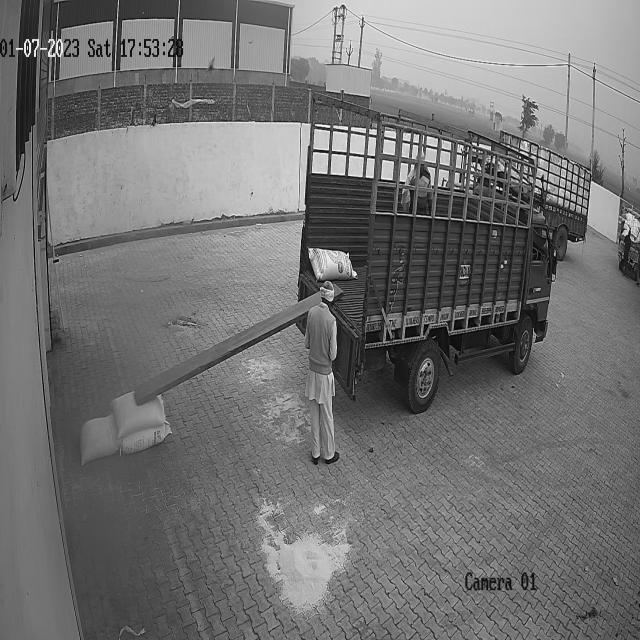sack: (111, 392, 165, 436), (79, 413, 119, 463), (307, 246, 358, 283), (120, 422, 170, 454)
